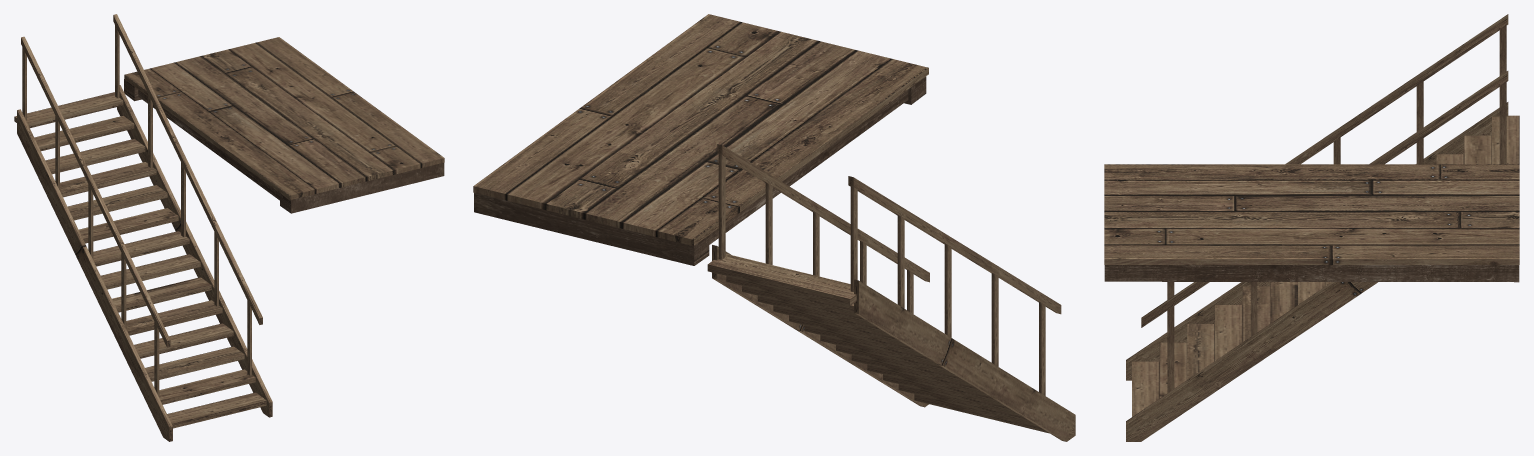
File: staircaseLeft.dae
3 renders of one model, left to right at view 1: azimuth 30°, elevation 25°; view 2: azimuth 150°, elevation 25°; view 3: azimuth 270°, elevation 25°, orthographic. The views are drawn at different scales.
Visible parts, largest first — view 1: Staircase, Floor; view 2: Floor, Staircase; view 3: Floor, Staircase.
Part boxes in pixels (<box>): Staircase: <box>14,14,272,441</box>; Floor: <box>124,37,444,213</box>; Floor: <box>473,14,928,265</box>; Staircase: <box>707,144,1075,441</box>; Floor: <box>1104,164,1519,282</box>; Staircase: <box>1126,14,1519,441</box>.
Bounding box in the file's own units: 3.72 × 3.9 × 4.
Materials: 2 (2 with a texture image).
